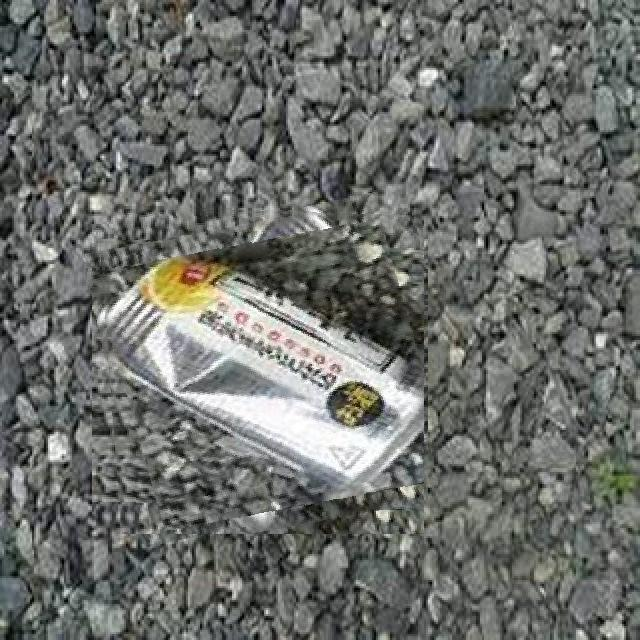recyclable: (97, 206, 424, 534)
